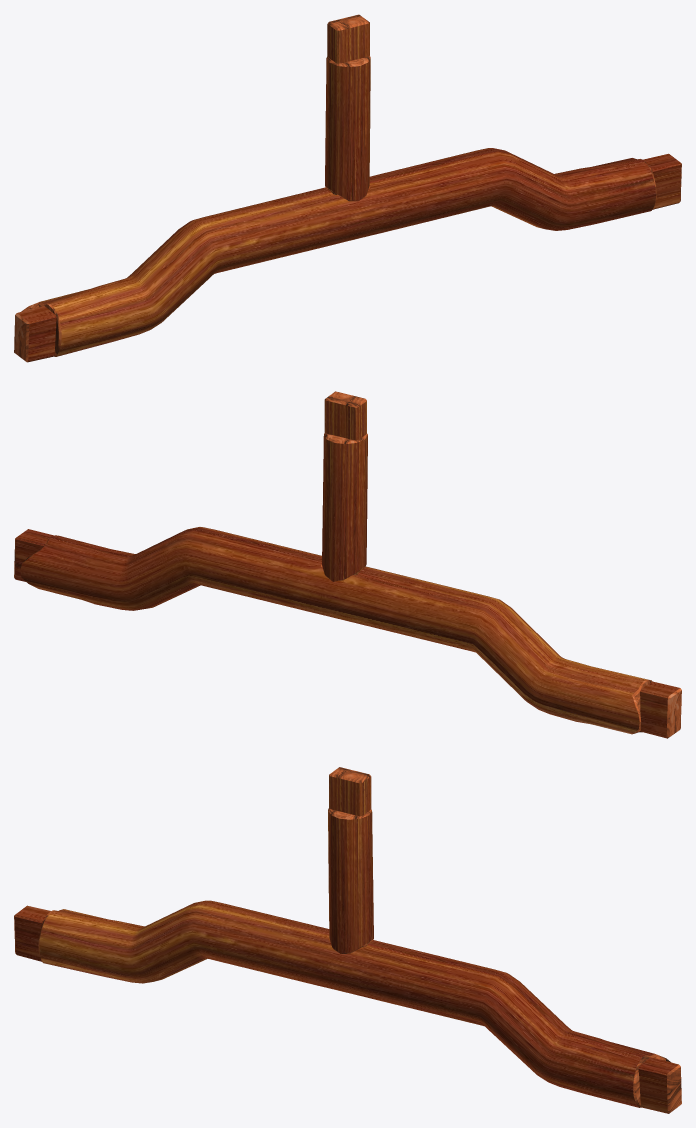
File: changfangwu_J_dingzi.FBX
3 renders of one model, top to bottom at view 1: azimuth 30°, elevation 25°; view 2: azimuth 150°, elevation 25°; view 3: azimuth 330°, elevation 25°, orthographic.
Parts seen in each view (by area): view 1: changfangwu_J_dingzi_1, changfangwu_J_dingzi_2; view 2: changfangwu_J_dingzi_1, changfangwu_J_dingzi_2; view 3: changfangwu_J_dingzi_1, changfangwu_J_dingzi_2.
Boxes of the visible parts, box(x1,y1,x2,y2) form: changfangwu_J_dingzi_1: box(14, 148, 681, 362); changfangwu_J_dingzi_2: box(325, 14, 370, 201); changfangwu_J_dingzi_1: box(14, 527, 681, 738); changfangwu_J_dingzi_2: box(322, 391, 367, 581); changfangwu_J_dingzi_1: box(14, 900, 681, 1113); changfangwu_J_dingzi_2: box(328, 767, 373, 953).
Size of the model in its own units: 23.66 by 9.03 by 1.93.
2 materials, 2 textured.
